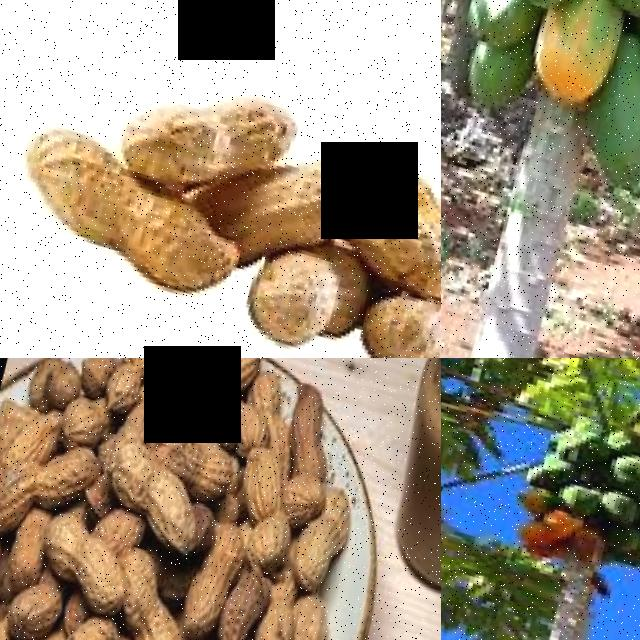pawpaw: (527, 0, 630, 102), (589, 45, 640, 199), (464, 0, 548, 44)
peanuts: (120, 58, 304, 210), (1, 109, 129, 246), (246, 228, 373, 344), (341, 176, 441, 291), (258, 143, 359, 248), (187, 511, 251, 636), (359, 272, 441, 358), (40, 431, 109, 517), (107, 431, 176, 511), (210, 558, 276, 640), (42, 510, 111, 588), (146, 474, 212, 552), (236, 432, 295, 517), (290, 501, 346, 588), (242, 491, 302, 572), (5, 576, 73, 640), (0, 452, 48, 538), (277, 583, 347, 640), (61, 388, 115, 452), (51, 600, 131, 640), (103, 358, 163, 407), (132, 600, 198, 640), (210, 358, 270, 389), (0, 526, 14, 640)
